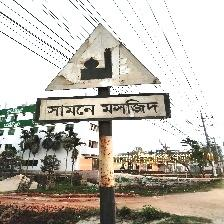Mosque in front: (39, 24, 167, 121)
